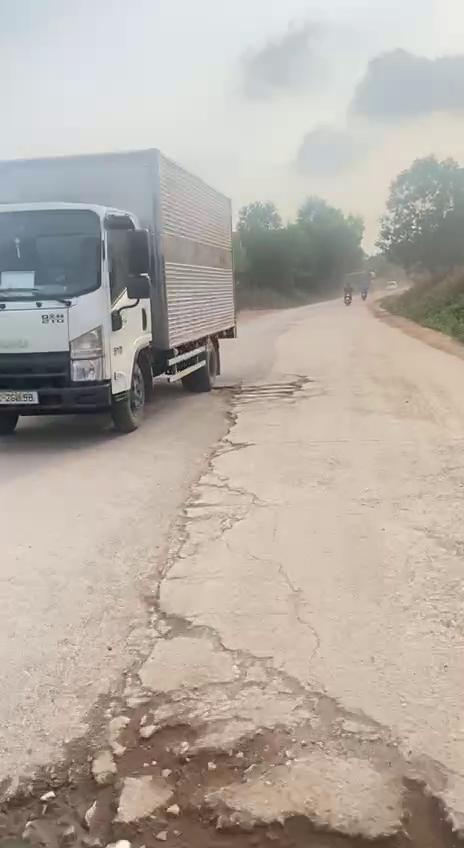pothole: (0, 697, 464, 848)
